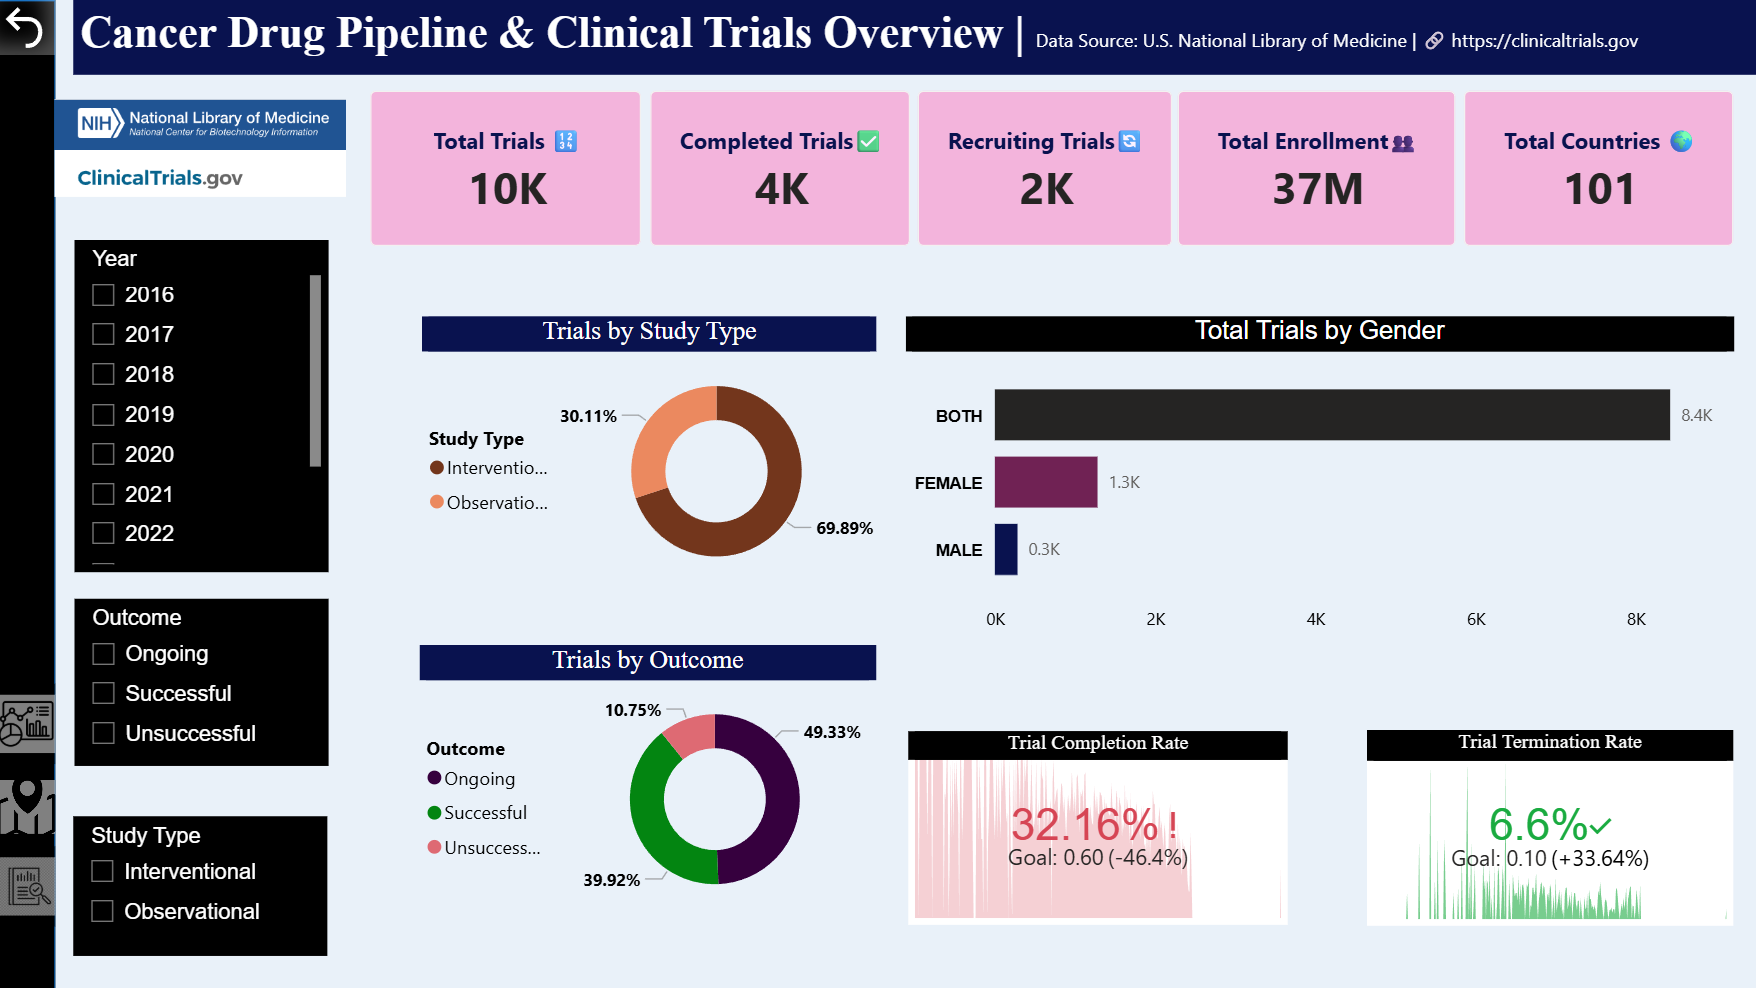

What the dashboard file says about the page in this screenshot:
{"tool":"powerbi","page":{"name":"Overview and Status","canvas":[1280,720],"ordinal":0},"visuals":[{"type":"textbox","box":[55.5,0,1224.5,54.3],"z":0},{"type":"cardVisual","fields":{"Data":["TABLE.Total Trials 🔢"]},"box":[254.6,49.5,231.6,147.2],"z":1000},{"type":"cardVisual","fields":{"Data":["TABLE.Completed Trials✅"]},"box":[458.4,49.5,223.2,147.2],"z":2000},{"type":"cardVisual","fields":{"Data":["TABLE.Total Enrollment👥"]},"box":[842.1,49.5,236.5,147.2],"z":3000},{"type":"cardVisual","fields":{"Data":["TABLE.Total Countries 🌍"]},"box":[1049.6,49.5,230.4,147.2],"z":4000},{"type":"cardVisual","fields":{"Data":["TABLE.Recruiting Trials🔄"]},"box":[652.7,49.5,219.6,147.2],"z":5000},{"type":"kpi","title":"Trial Completion Rate","fields":{"Goal":["TABLE.Completion Target"],"Indicator":["TABLE.Completion Rate %"],"TrendLine":["Clinical Trials Data.Start Date"]},"box":[662.3,532,276.3,141.2],"z":6000},{"type":"kpi","title":"Trial Termination Rate","fields":{"Goal":["TABLE.Termination Target"],"Indicator":["TABLE.Termination Rate % ❌"],"TrendLine":["Clinical Trials Data.Start Date"]},"box":[996.5,530.8,266.6,142.4],"z":7000},{"type":"donutChart","title":"Trials by Outcome","fields":{"Category":["Clinical Trials Data.Outcome "],"Y":["TABLE.Total Trials 🔢"]},"box":[307.6,469.3,331.8,203.9],"z":8000},{"type":"donutChart","title":"Trials by Study Type","fields":{"Category":["Clinical Trials Data.Study Type"],"Y":["TABLE.Total Trials 🔢"]},"box":[308.8,230.4,330.6,205.1],"z":9000},{"type":"clusteredBarChart","title":"Total Trials by Gender","fields":{"Category":["Clinical Trials Data.Sex"],"Y":["TABLE.Total Trials 🔢"]},"box":[661.1,230.4,602,238.9],"z":10000},{"type":"slicer","fields":{"Values":["Clinical Trials Data.Outcome "]},"box":[56.7,435.5,184.6,121.9],"z":11000},{"type":"slicer","fields":{"Values":["Clinical Trials Data.Study Type"]},"box":[55.5,593.6,184.6,101.3],"z":12000},{"type":"slicer","fields":{"Values":["Clinical Trials Data.Start Year"]},"box":[56.7,174.9,184.6,241.3],"z":13000},{"type":"shape","box":[0,0,42.7,719.6],"z":14000},{"type":"actionButton","box":[0,0,42.2,39.8],"z":15000},{"type":"actionButton","box":[0,615.1,42.8,58.7],"z":16000},{"type":"actionButton","box":[0,567.4,42.8,39.1],"z":17000},{"type":"actionButton","box":[0,497.7,42.8,58.7],"z":18000},{"type":"image","box":[42.2,39.8,212.3,135.1],"z":19000}]}

Visuals, with their boxes on the page's 1280x720 design canvas (x1, y1, x2, y2). These are canvas units, not pixel positions in the 1756x988 screenshot, which may show the page scaled, cropped or inside an application window:
textbox: x1=56 y1=0 x2=1280 y2=54
cardVisual - TABLE.Total Trials 🔢: x1=255 y1=50 x2=486 y2=197
cardVisual - TABLE.Completed Trials✅: x1=458 y1=50 x2=682 y2=197
cardVisual - TABLE.Total Enrollment👥: x1=842 y1=50 x2=1079 y2=197
cardVisual - TABLE.Total Countries 🌍: x1=1050 y1=50 x2=1280 y2=197
cardVisual - TABLE.Recruiting Trials🔄: x1=653 y1=50 x2=872 y2=197
"Trial Completion Rate" kpi: x1=662 y1=532 x2=939 y2=673
"Trial Termination Rate" kpi: x1=996 y1=531 x2=1263 y2=673
"Trials by Outcome" donutChart: x1=308 y1=469 x2=639 y2=673
"Trials by Study Type" donutChart: x1=309 y1=230 x2=639 y2=436
"Total Trials by Gender" clusteredBarChart: x1=661 y1=230 x2=1263 y2=469
slicer - Clinical Trials Data.Outcome : x1=57 y1=436 x2=241 y2=557
slicer - Clinical Trials Data.Study Type: x1=56 y1=594 x2=240 y2=695
slicer - Clinical Trials Data.Start Year: x1=57 y1=175 x2=241 y2=416
shape: x1=0 y1=0 x2=43 y2=720
actionButton: x1=0 y1=0 x2=42 y2=40
actionButton: x1=0 y1=615 x2=43 y2=674
actionButton: x1=0 y1=567 x2=43 y2=606
actionButton: x1=0 y1=498 x2=43 y2=556
image: x1=42 y1=40 x2=254 y2=175
